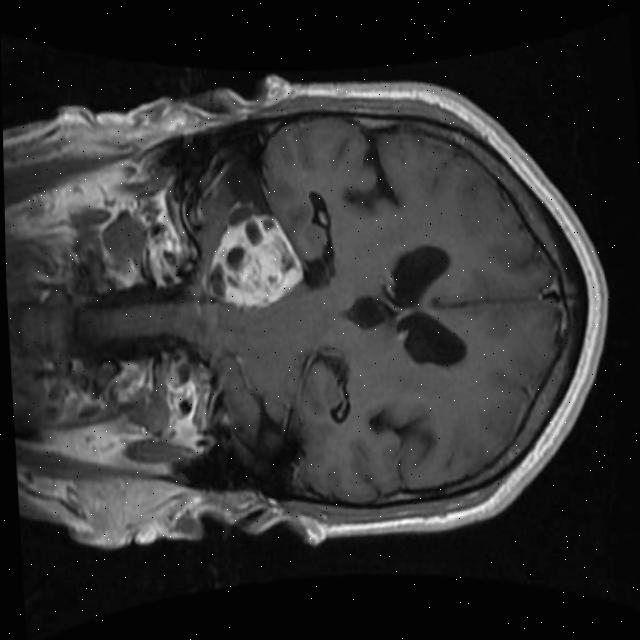Meningioma: (201, 211, 304, 311)
